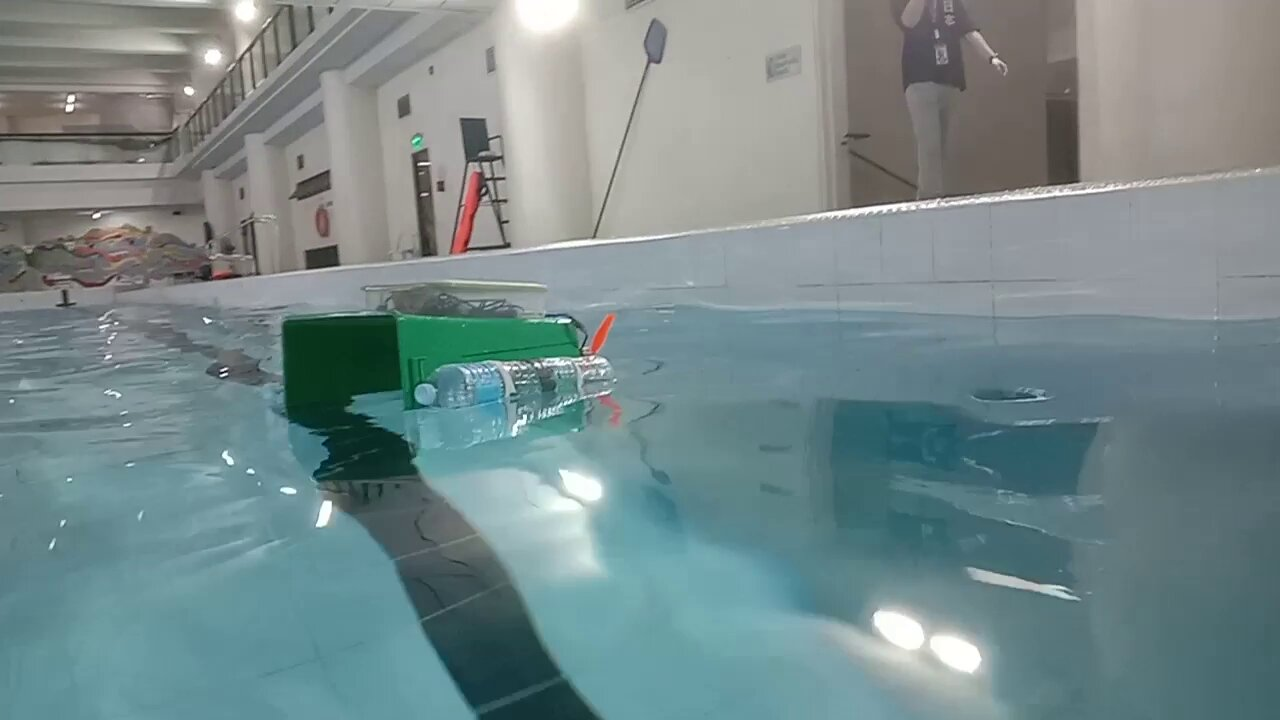drone: (260, 278, 615, 415)
